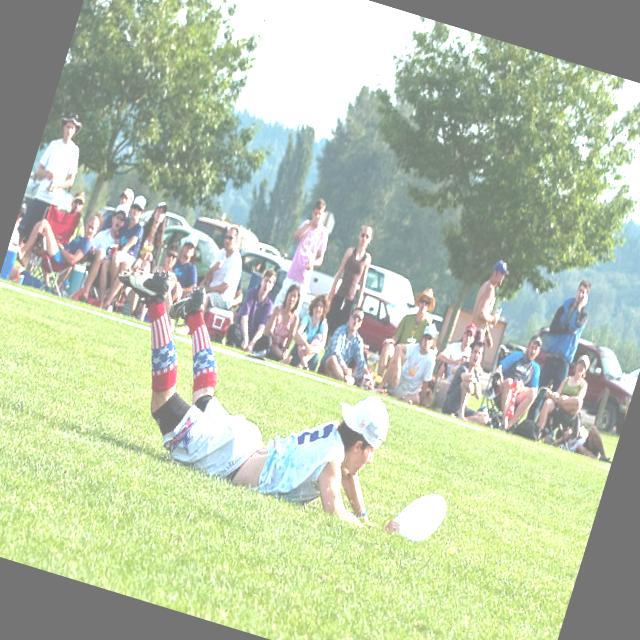Vehicle: (555, 335, 640, 438), (347, 288, 418, 362), (152, 218, 223, 279), (187, 210, 266, 262), (230, 248, 287, 300), (360, 264, 423, 306), (361, 264, 421, 308), (138, 204, 190, 236), (18, 177, 41, 214), (619, 357, 640, 397), (254, 242, 284, 260), (94, 203, 116, 226)
